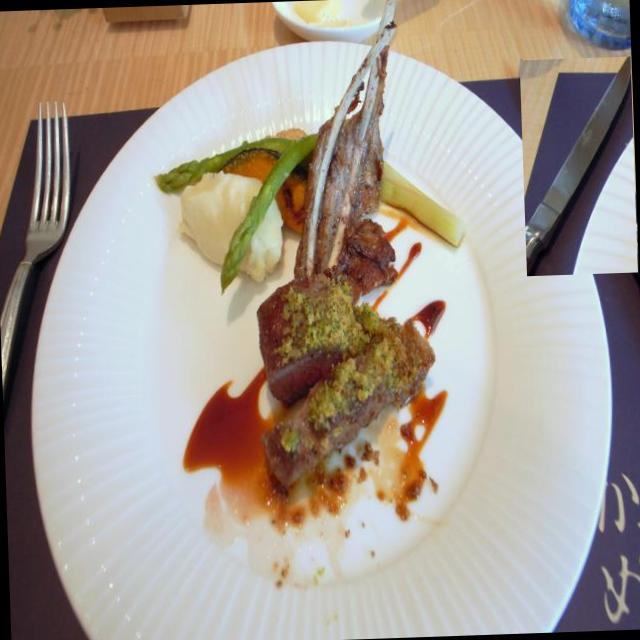Knife: (526, 57, 631, 276)
